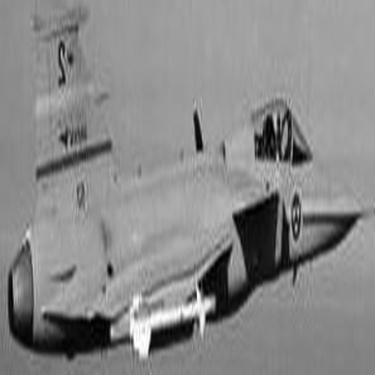airplane: (7, 5, 371, 371)
